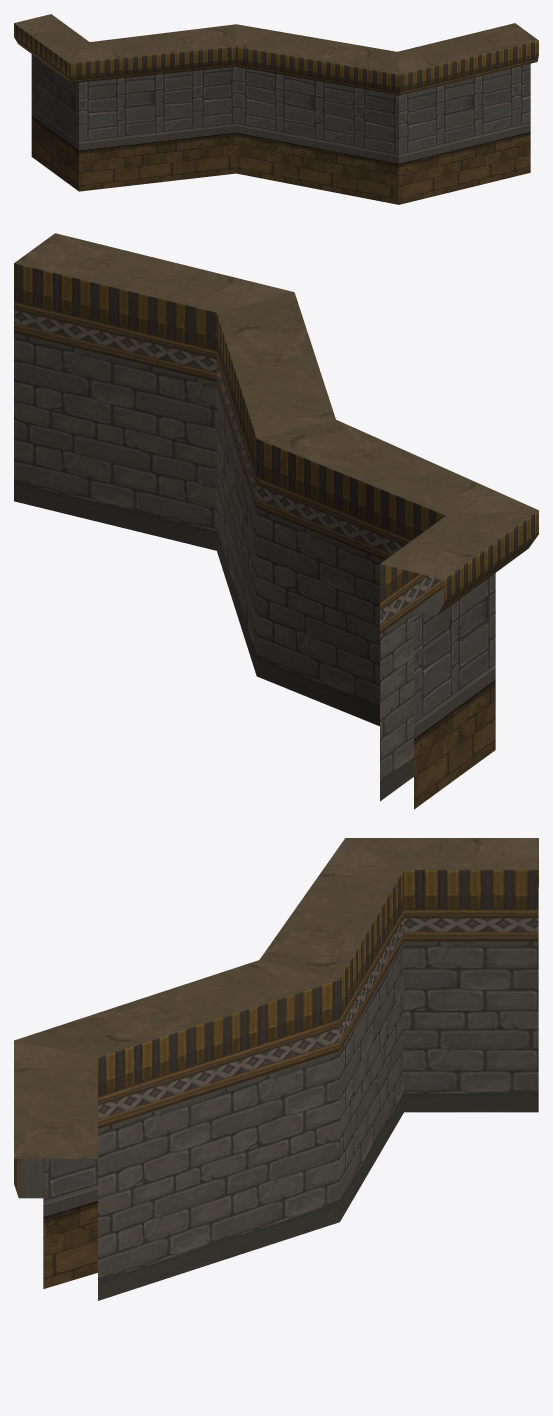
The model's file is Battle06_Wall_020.FBX.
3 renders of one model, top to bottom at view 1: azimuth 30°, elevation 25°; view 2: azimuth 150°, elevation 25°; view 3: azimuth 270°, elevation 25°, orthographic. The views are drawn at different scales.
Visible parts, largest first — view 1: Battle06_Wall_020; view 2: Battle06_Wall_020; view 3: Battle06_Wall_020.
Part boxes in pixels (box(x1,y1,x2,y2)): Battle06_Wall_020: box(14, 14, 538, 204); Battle06_Wall_020: box(14, 233, 538, 809); Battle06_Wall_020: box(14, 838, 538, 1300).
Size of the model in its own units: 27.36 by 9.63 by 18.87.
